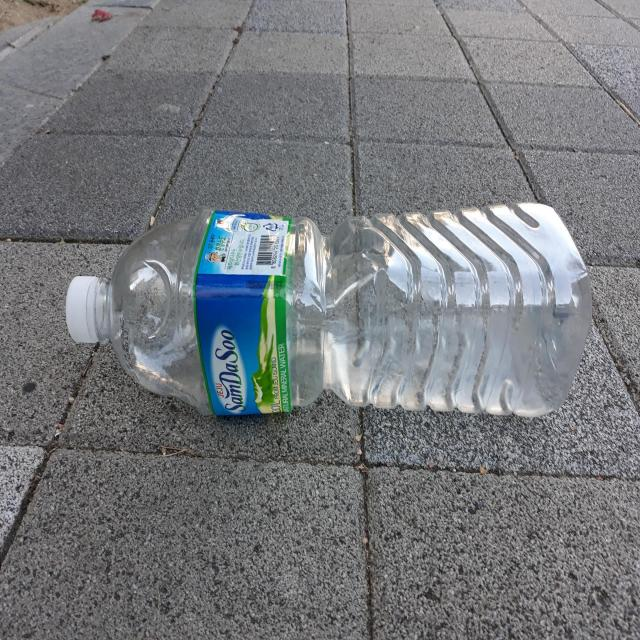plastic: (65, 202, 593, 417)
